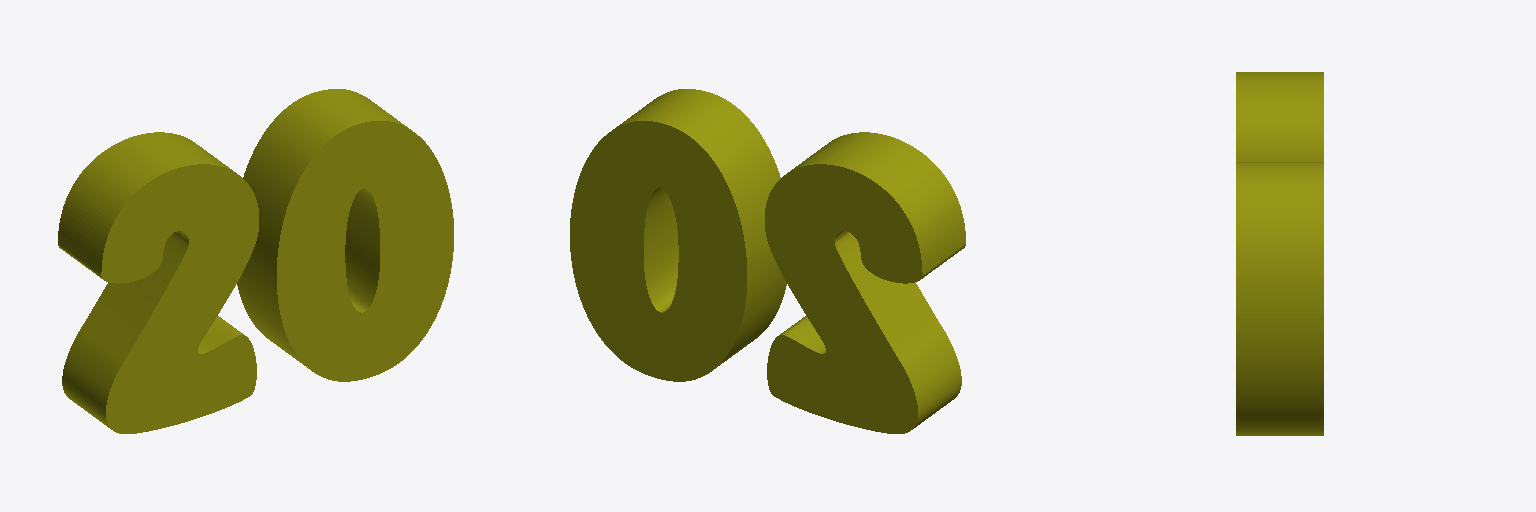
The model's file is Number20.obj.
3 renders of one model, left to right at view 1: azimuth 30°, elevation 25°; view 2: azimuth 150°, elevation 25°; view 3: azimuth 270°, elevation 25°, orthographic.
Parts seen in each view (by area): view 1: Text; view 2: Text; view 3: Text.
Boxes of the visible parts, <box> form: Text: <box>58,89,453,433</box>; Text: <box>570,89,965,433</box>; Text: <box>1236,72,1323,435</box>.
Size of the model in its own units: 0.8401 by 0.584 by 0.18.